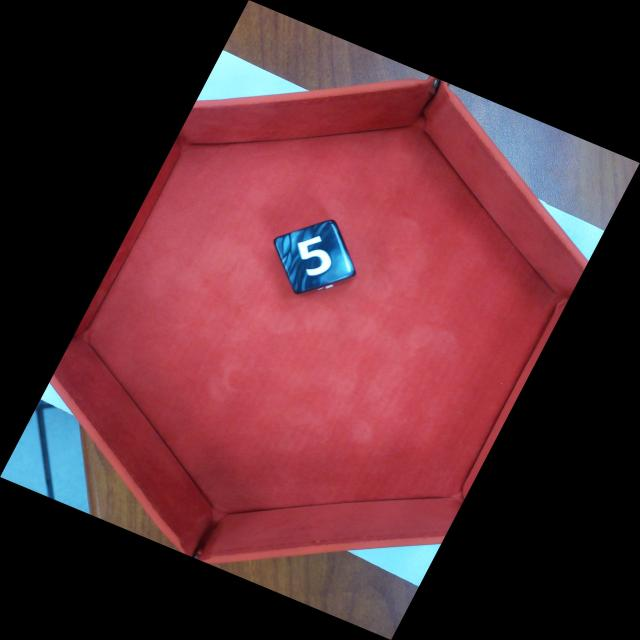dice: (274, 222, 355, 295)
